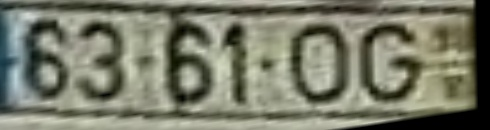1: (218, 22, 251, 109)
3: (73, 19, 131, 107)
6: (157, 17, 222, 112), (18, 15, 75, 103)
G: (355, 20, 426, 110)
O: (284, 21, 357, 113)
